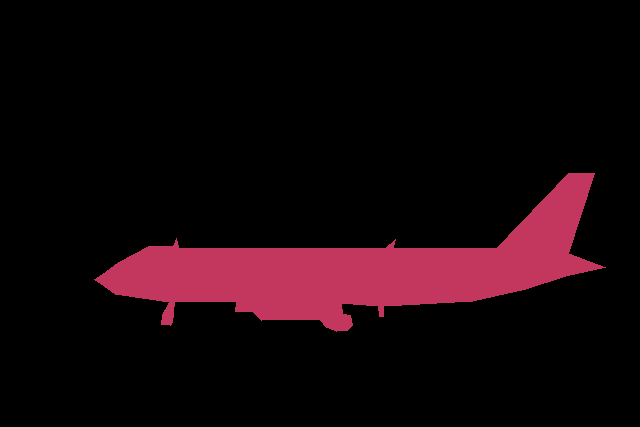Airplane: (94, 173, 605, 331)
